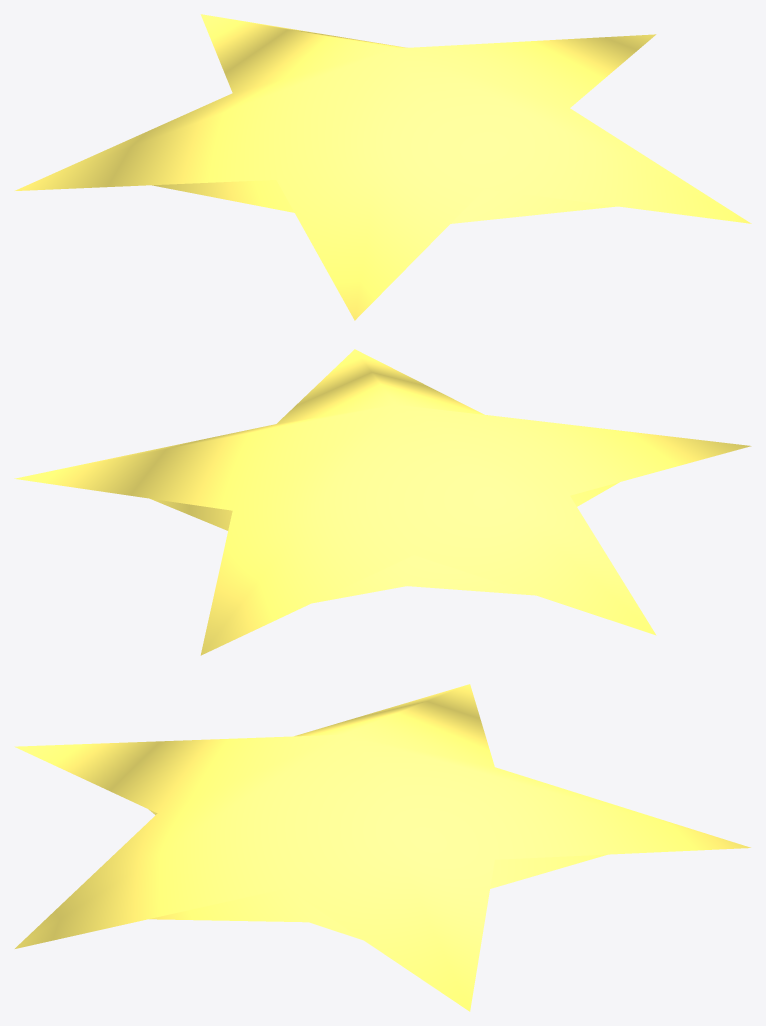
The model's file is SM_UI_Star.glb.
The picture shows the model from 3 angles, top to bottom: view 1: azimuth 30°, elevation 25°; view 2: azimuth 150°, elevation 25°; view 3: azimuth 270°, elevation 25°; orthographic projection. The views are drawn at different scales.
Parts seen in each view (by area): view 1: SM_UI_Star; view 2: SM_UI_Star; view 3: SM_UI_Star.
Boxes of the visible parts, x1=… form: SM_UI_Star: x1=15, y1=14, x2=751, y2=320; SM_UI_Star: x1=14, y1=349, x2=751, y2=655; SM_UI_Star: x1=14, y1=684, x2=750, y2=1011.
Size of the model in its own units: 1.08 by 0.2185 by 1.03.
